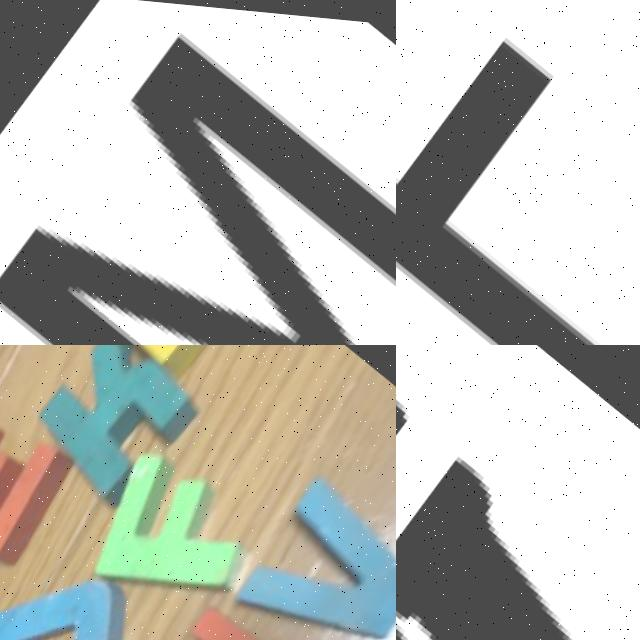E: (0, 380, 82, 585)
F: (396, 0, 640, 345), (56, 416, 268, 631)
G: (396, 345, 640, 640)
J: (0, 517, 157, 640)
K: (14, 345, 210, 500)
M: (0, 0, 396, 345)
V: (206, 440, 396, 640)
W: (100, 573, 341, 640)
